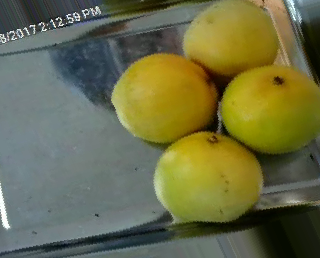Mango: (150, 133, 263, 221), (111, 52, 218, 143), (220, 63, 320, 153), (182, 1, 276, 76)
